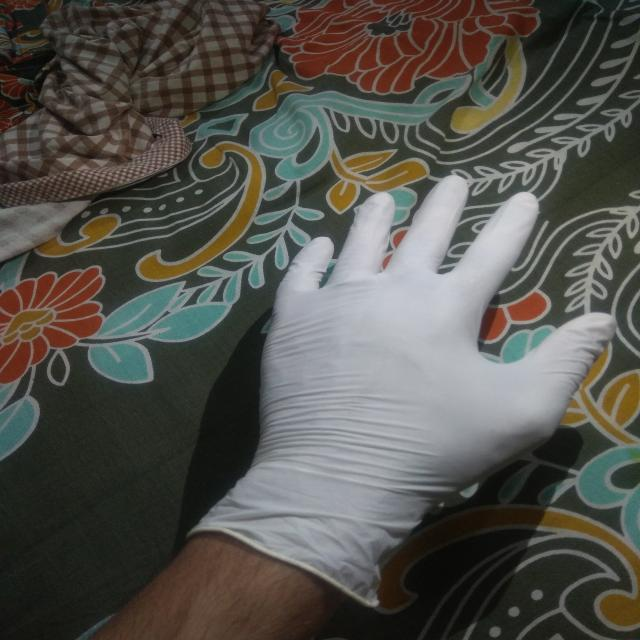glove_hand: (183, 172, 617, 610)
